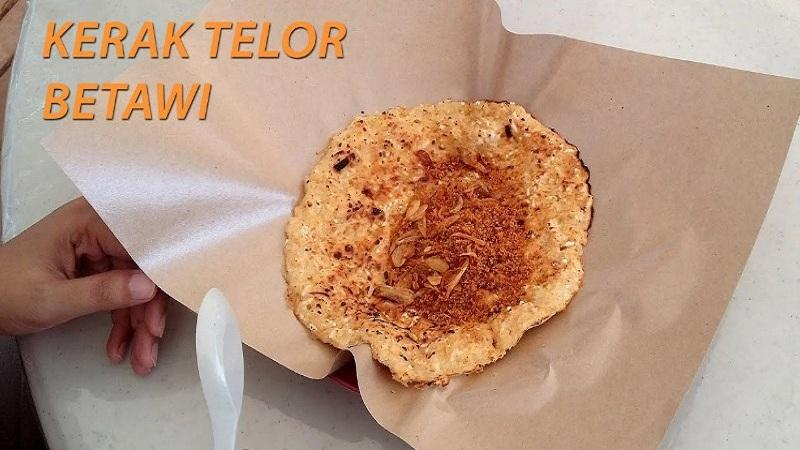kerak_telor: (283, 100, 594, 389)
